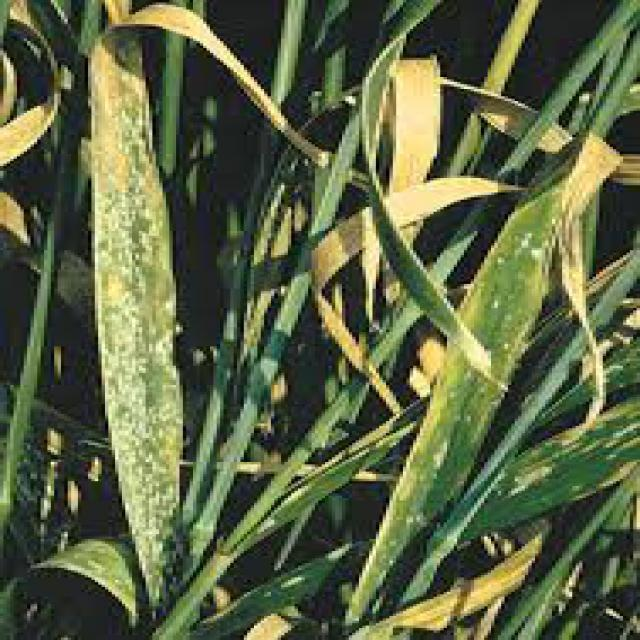wheat-powdery-mildew: (92, 42, 182, 604)
